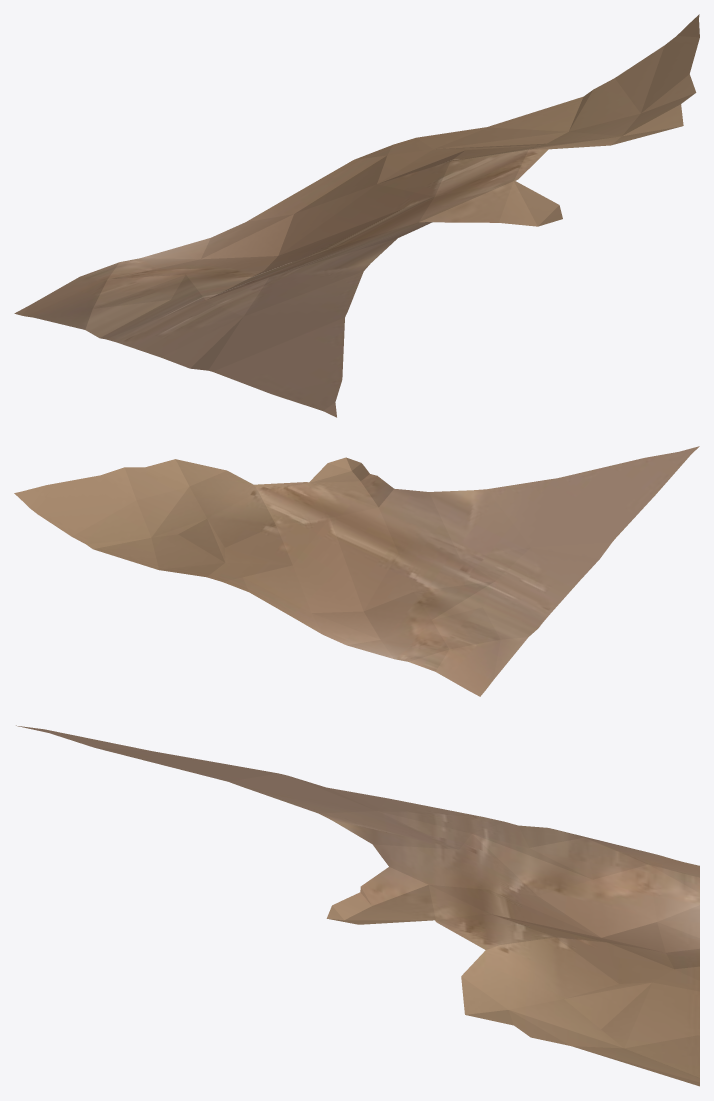
3 renders of one model, top to bottom at view 1: azimuth 30°, elevation 25°; view 2: azimuth 150°, elevation 25°; view 3: azimuth 270°, elevation 25°, orthographic. The views are drawn at different scales.
Size of the model in its own units: 0.56 by 0.1033 by 0.4572.
Materials: 1 (1 with a texture image).
